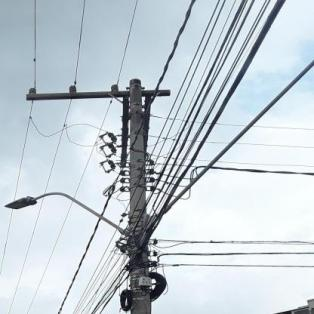Poste: (114, 68, 187, 314)
